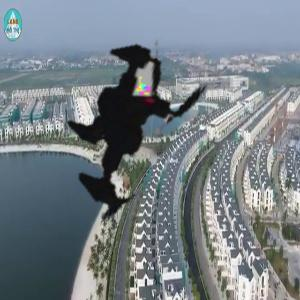drone: (5, 1, 271, 267)
